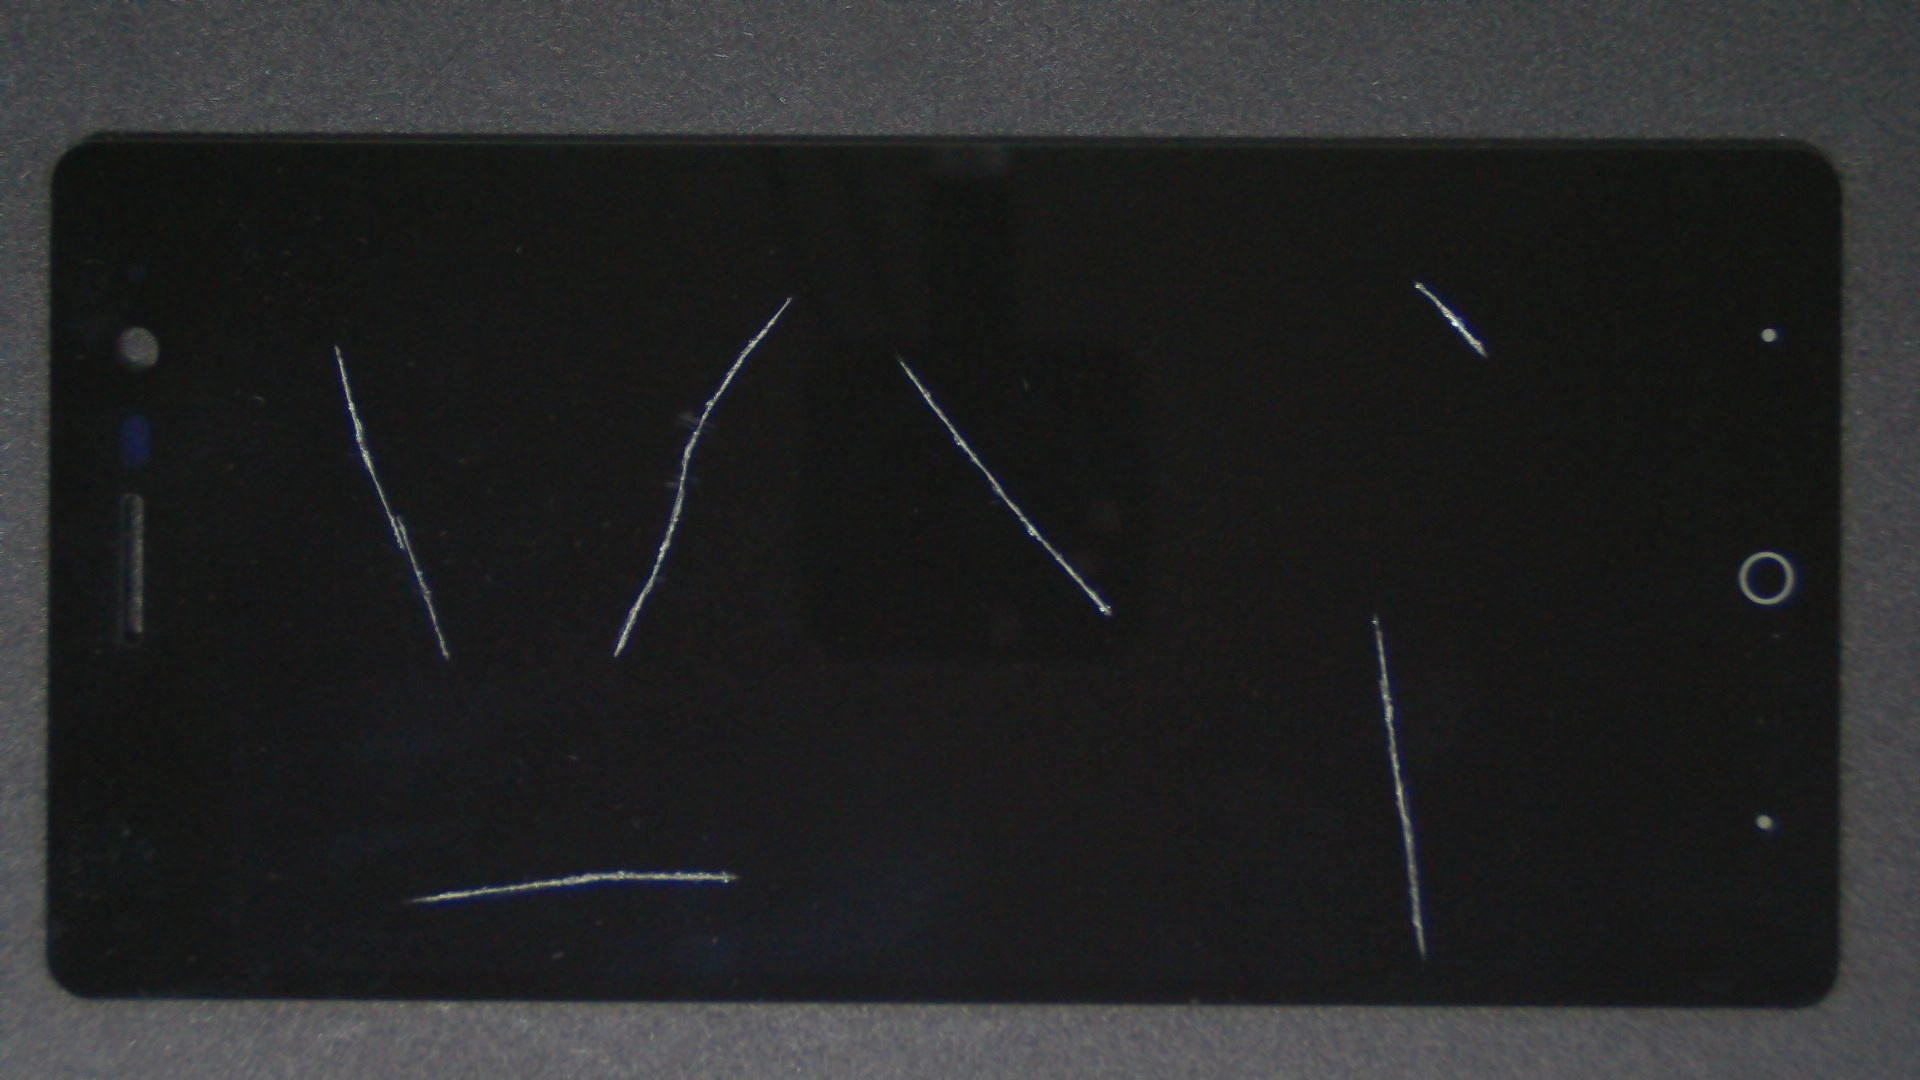oil: (688, 306, 1920, 920), (310, 434, 927, 1080), (708, 140, 1920, 422), (450, 178, 1348, 535), (397, 146, 1185, 443), (169, 171, 504, 516)
